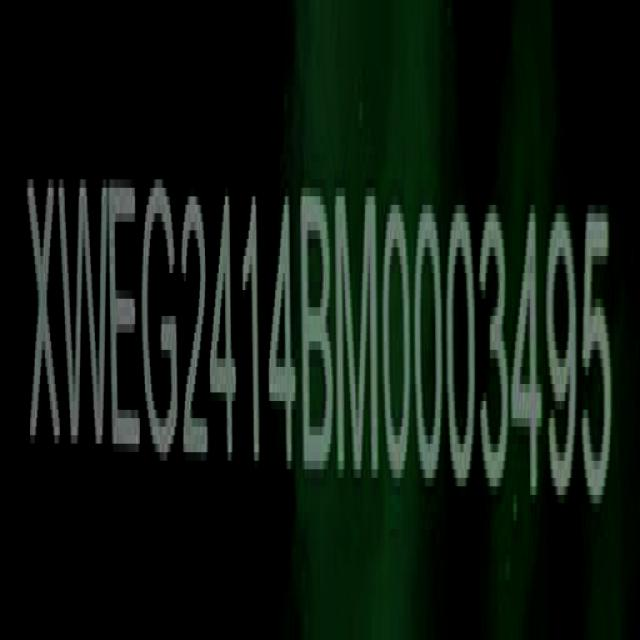0: (380, 193, 410, 488), (448, 203, 478, 497), (416, 200, 446, 490)
1: (242, 181, 260, 482)
2: (184, 184, 212, 478)
3: (481, 204, 510, 502)
4: (266, 176, 298, 481), (514, 199, 544, 508), (211, 184, 239, 480)
5: (583, 199, 618, 516)
9: (548, 207, 579, 513)
B: (302, 180, 336, 483)
E: (111, 174, 142, 468)
G: (141, 172, 179, 471)
M: (334, 164, 382, 486)
W: (61, 163, 110, 462)
X: (25, 166, 62, 464)
